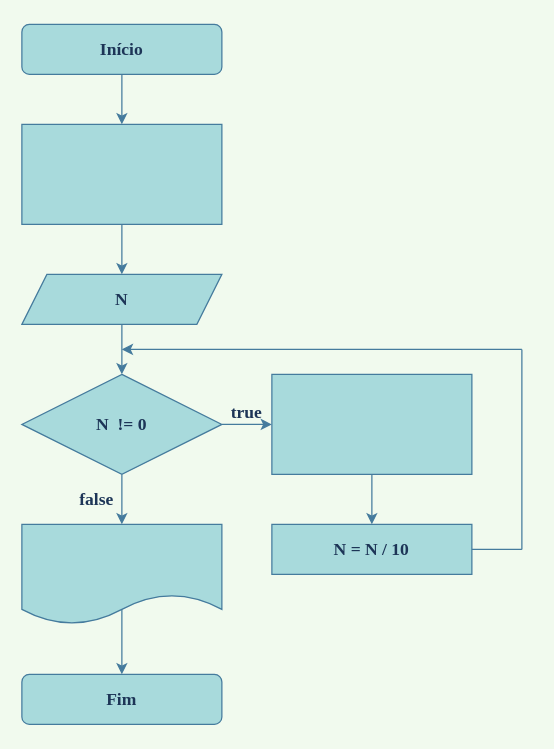
The diagram is 554 pixels wide and 749 high, and some of its shapes have lost their labels. The shapes that lost their labels are listed below. From the top down, each one's box as (x1, y1, x2, y2) in pixels, then its label:
(21, 123, 222, 224): soma = 0 resto = 0
(271, 373, 472, 474): resto = N % 10 soma = soma + resto
(21, 523, 222, 624): soma
